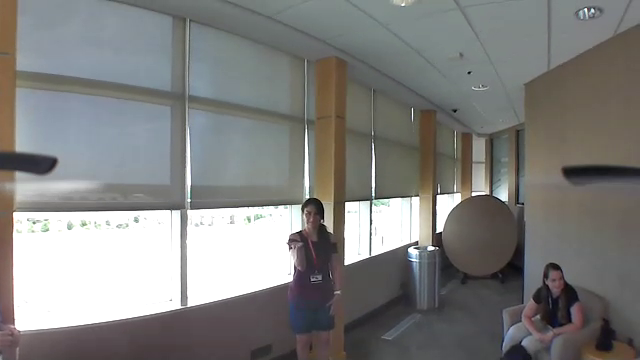land: (282, 239, 309, 252)
